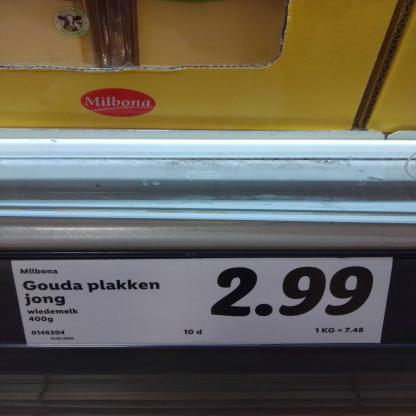prtg: (12, 259, 394, 348)
